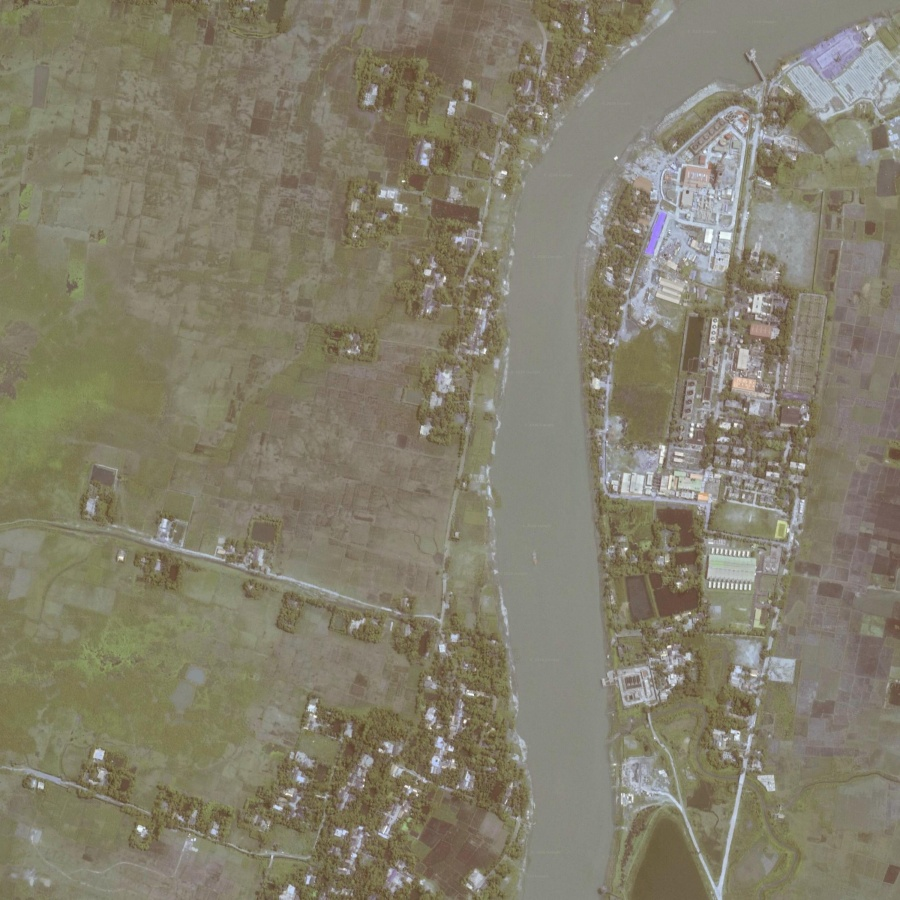PowerPlant: (672, 117, 743, 272)
